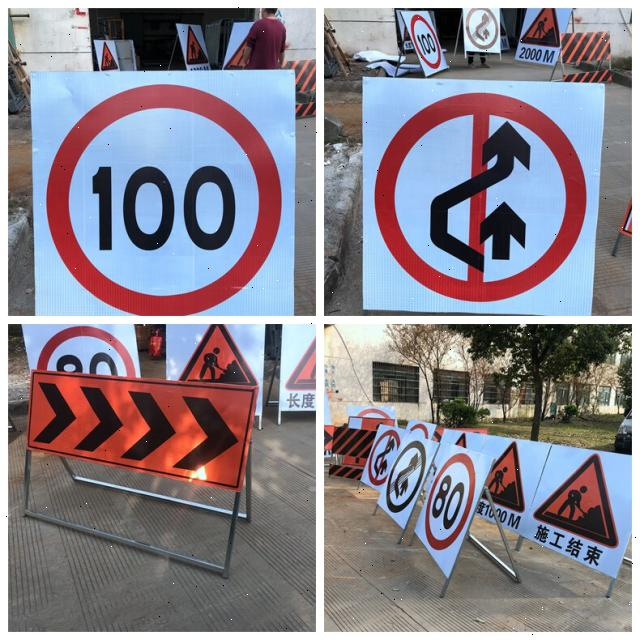speed limit 100: (41, 81, 285, 317)
